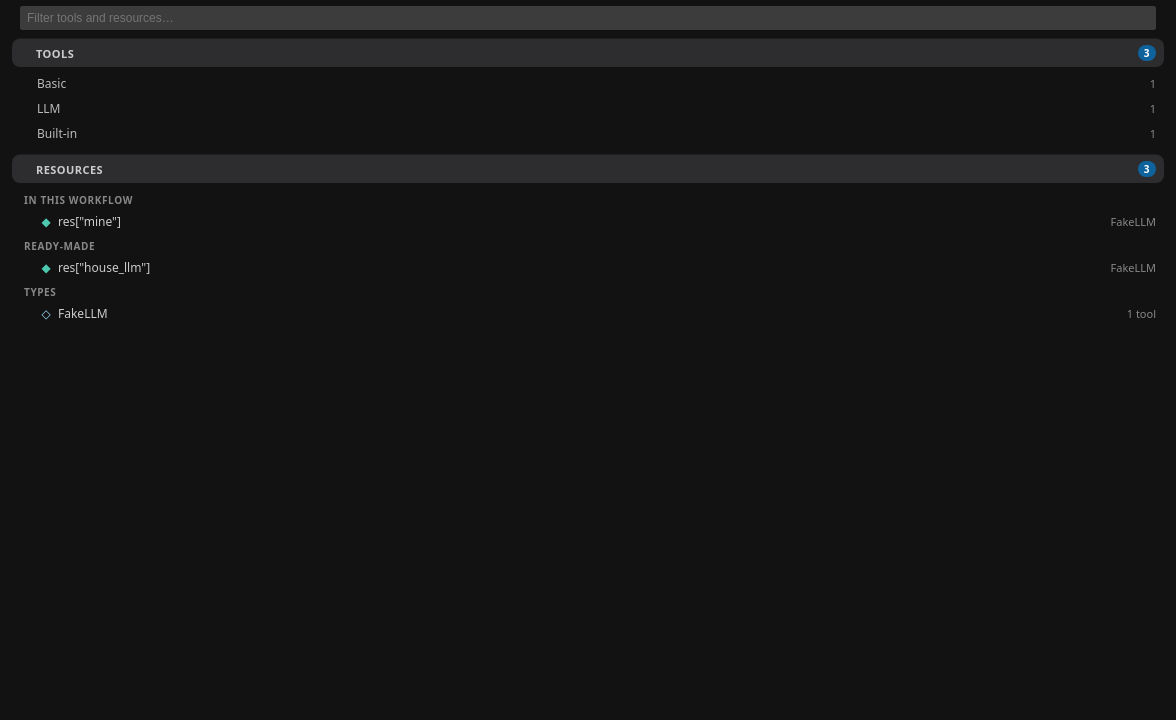
Test case: TEST-ENV-05b · a tool's details (REQ-ENV-005) › shows every input with its type, required or default, and description, and the output
Click the button "Basic 1". click: x=52, y=84
box: [12,71,1164,96]
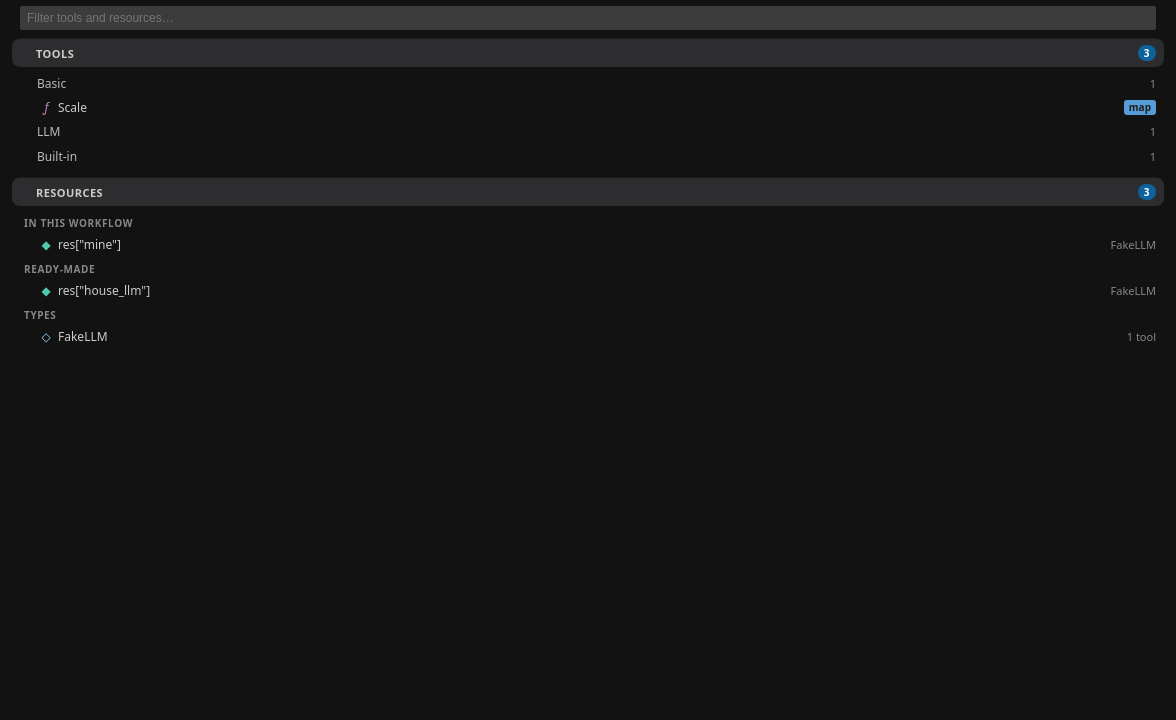
Click the text "Scale". click: x=72, y=108
box: [58,99,87,116]
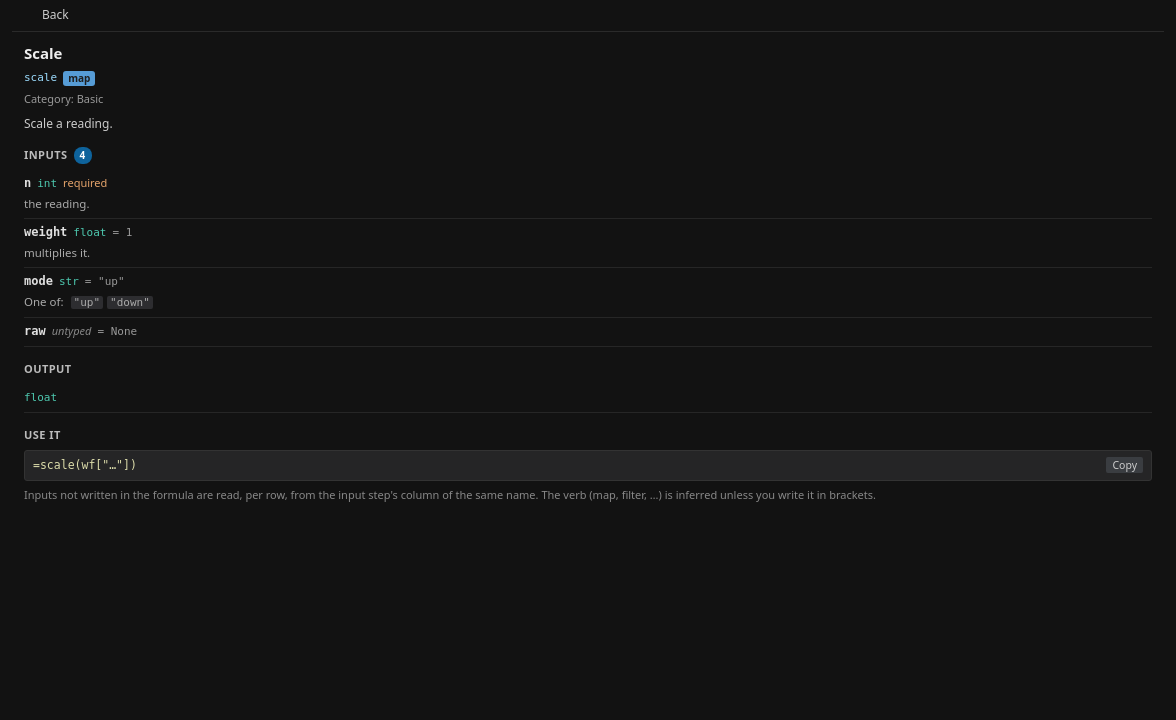
Result: the text "Scale a reading." is shown at [24,115,113,132]
Result: the text "int" is shown at [37,176,57,192]
Result: the text "required" is shown at [63,175,107,192]
